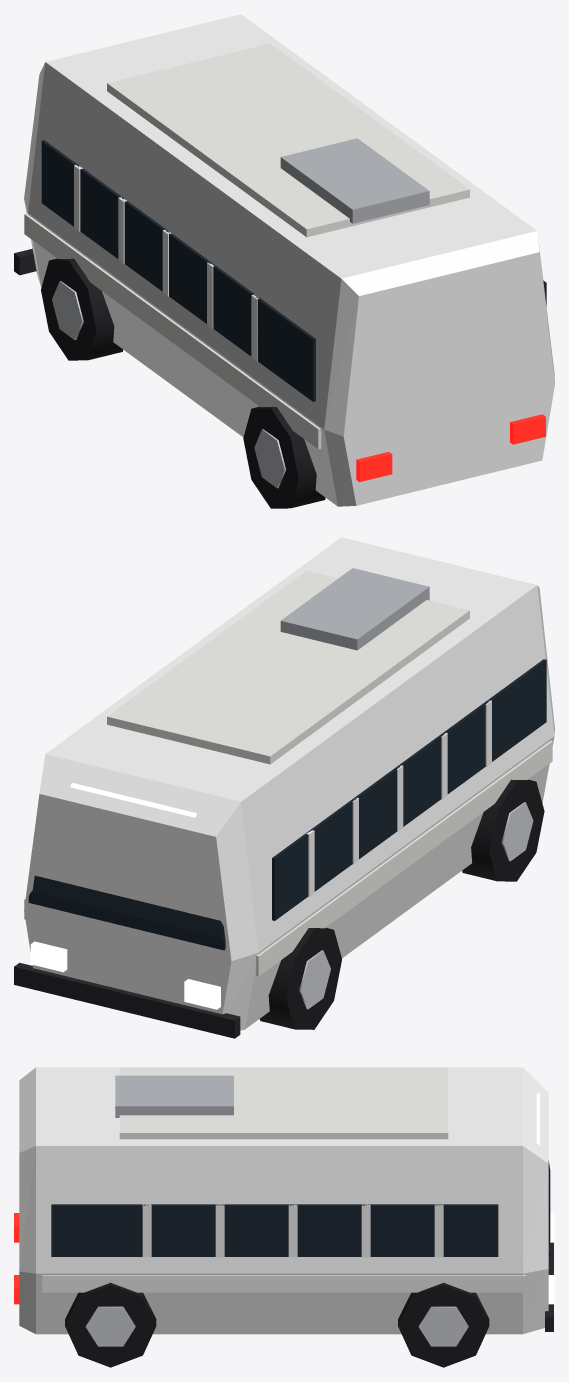
The model's file is bus.glb.
The picture shows the model from 3 angles, top to bottom: view 1: azimuth 30°, elevation 25°; view 2: azimuth 150°, elevation 25°; view 3: azimuth 270°, elevation 25°; orthographic projection. The views are drawn at different scales.
Visible parts, largest first — view 1: object 1, object 18, object 2, wheel (×2), object 19, object 8, wheel-hub (×2), object 29, object 31; view 2: object 1, object 18, object 2, wheel (×2), object 19, object 8, object 16, object 32, wheel-hub (×2), object 30, object 28, object 17; view 3: object 1, object 9, object 18, wheel (×2), object 15, object 19, wheel-hub (×2), object 14, object 10, object 13, object 11, object 12 (+1 smaller).
Part boxes in pixels (bbox=[...]): object 1: bbox=[24, 14, 554, 506]; object 18: bbox=[107, 43, 469, 237]; object 2: bbox=[41, 140, 315, 401]; wheel (×2): bbox=[41, 258, 325, 508]; object 19: bbox=[280, 138, 429, 223]; object 8: bbox=[24, 213, 321, 449]; wheel-hub (×2): bbox=[52, 281, 286, 488]; object 29: bbox=[356, 452, 392, 482]; object 31: bbox=[510, 414, 545, 444]; object 1: bbox=[24, 537, 554, 1030]; object 18: bbox=[107, 570, 469, 764]; object 2: bbox=[272, 659, 546, 920]; wheel (×2): bbox=[260, 779, 544, 1029]; object 19: bbox=[280, 568, 429, 650]; object 8: bbox=[256, 741, 552, 976]; object 16: bbox=[28, 875, 225, 950]; object 32: bbox=[14, 962, 240, 1038]; wheel-hub (×2): bbox=[299, 802, 533, 1009]; object 30: bbox=[30, 941, 67, 972]; object 28: bbox=[184, 979, 220, 1009]; object 17: bbox=[70, 783, 196, 817]; object 1: bbox=[19, 1067, 548, 1334]; object 9: bbox=[51, 1204, 498, 1256]; object 18: bbox=[119, 1067, 448, 1139]; wheel (×2): bbox=[65, 1282, 489, 1367]; object 15: bbox=[42, 1275, 525, 1292]; object 19: bbox=[115, 1075, 233, 1117]; wheel-hub (×2): bbox=[85, 1306, 468, 1346]; object 14: bbox=[142, 1204, 151, 1257]; object 10: bbox=[434, 1204, 443, 1257]; object 13: bbox=[215, 1204, 224, 1257]; object 11: bbox=[361, 1204, 370, 1257]; object 12: bbox=[288, 1204, 297, 1257].
Bounding box in the file's own units: 2.59 × 2.75 × 5.93.
